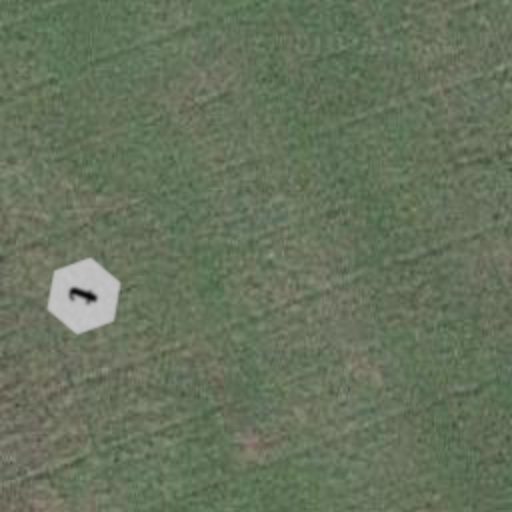hexagon: (38, 250, 130, 342)
